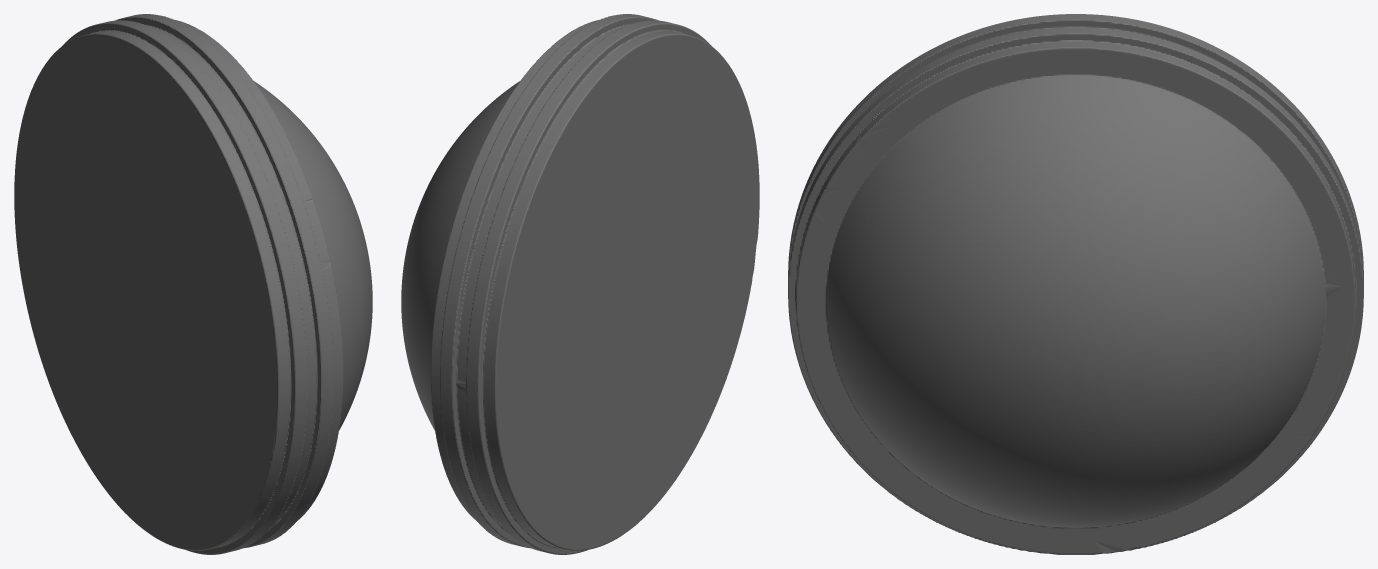
Rendered from PipeCover1.fbx.
3 views of the same model, side by side, from view 1: azimuth 30°, elevation 25°; view 2: azimuth 150°, elevation 25°; view 3: azimuth 270°, elevation 25° (orthographic). The views are drawn at different scales.
Parts seen in each view (by area): view 1: PipeCover1; view 2: PipeCover1; view 3: PipeCover1.
Boxes of the visible parts, x1=… form: PipeCover1: x1=14, y1=14, x2=372, y2=554; PipeCover1: x1=401, y1=14, x2=759, y2=554; PipeCover1: x1=788, y1=14, x2=1363, y2=554.
Size of the model in its own units: 83.12 by 205 by 205.
